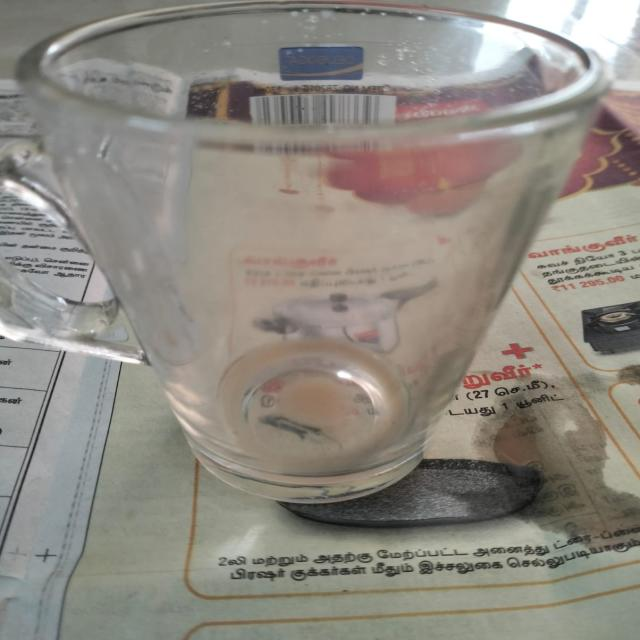glass-VX4N: (4, 0, 616, 507)
